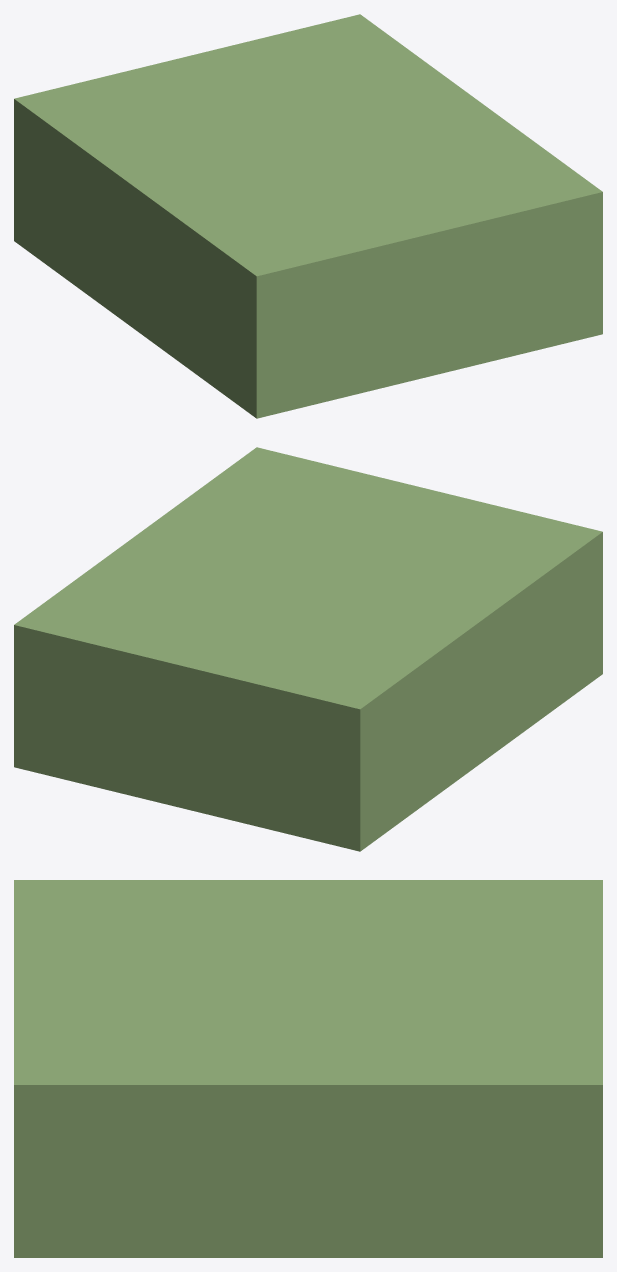
File: fazendeiro_pe.glb
3 views of the same model, one above another, from view 1: azimuth 30°, elevation 25°; view 2: azimuth 150°, elevation 25°; view 3: azimuth 270°, elevation 25° (orthographic). The views are drawn at different scales.
Parts seen in each view (by area): view 1: fazendeiro_pe; view 2: fazendeiro_pe; view 3: fazendeiro_pe.
Part boxes in pixels (x1=…): fazendeiro_pe: x1=14, y1=14, x2=602, y2=418; fazendeiro_pe: x1=14, y1=447, x2=602, y2=851; fazendeiro_pe: x1=14, y1=880, x2=602, y2=1257.
Bounding box in the file's own units: 0.28 × 0.11 × 0.34.
